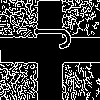J: (25, 25, 71, 50)
